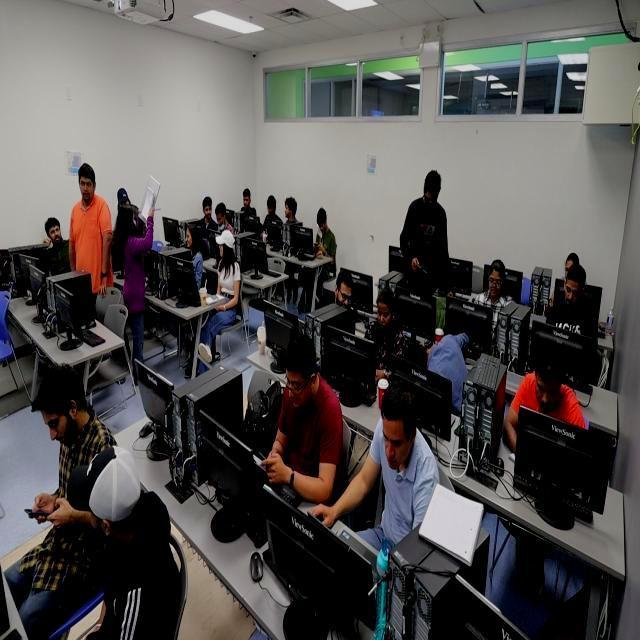Looking away: (382, 413, 410, 470), (534, 372, 562, 416), (563, 276, 580, 311), (488, 268, 503, 298), (376, 300, 391, 330), (336, 282, 352, 310), (48, 224, 62, 244), (266, 202, 276, 218), (185, 228, 193, 248), (204, 202, 212, 220), (284, 204, 293, 218), (216, 213, 224, 228)
Looking forward: (80, 176, 94, 202)
Phone use: (20, 386, 120, 530), (260, 354, 360, 490)
